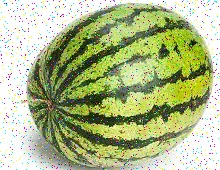watermelon: (25, 2, 214, 168)
